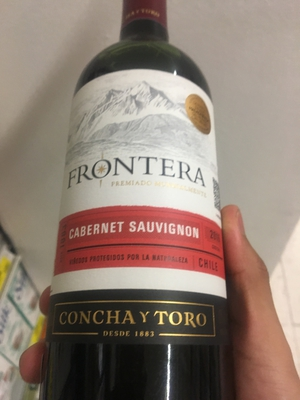frontera cabernet sauvignon: (55, 30, 226, 400)
